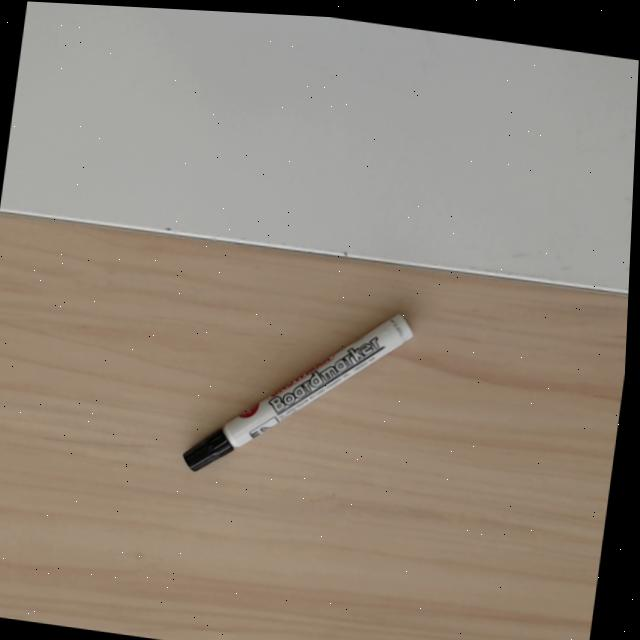Marker-Pen: (178, 310, 415, 478)
